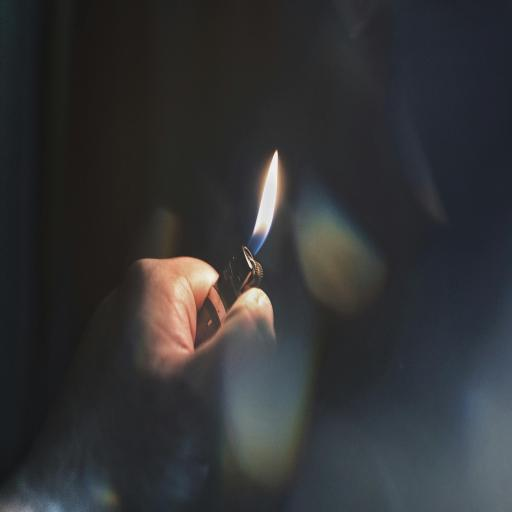lighter: (188, 144, 288, 348)
